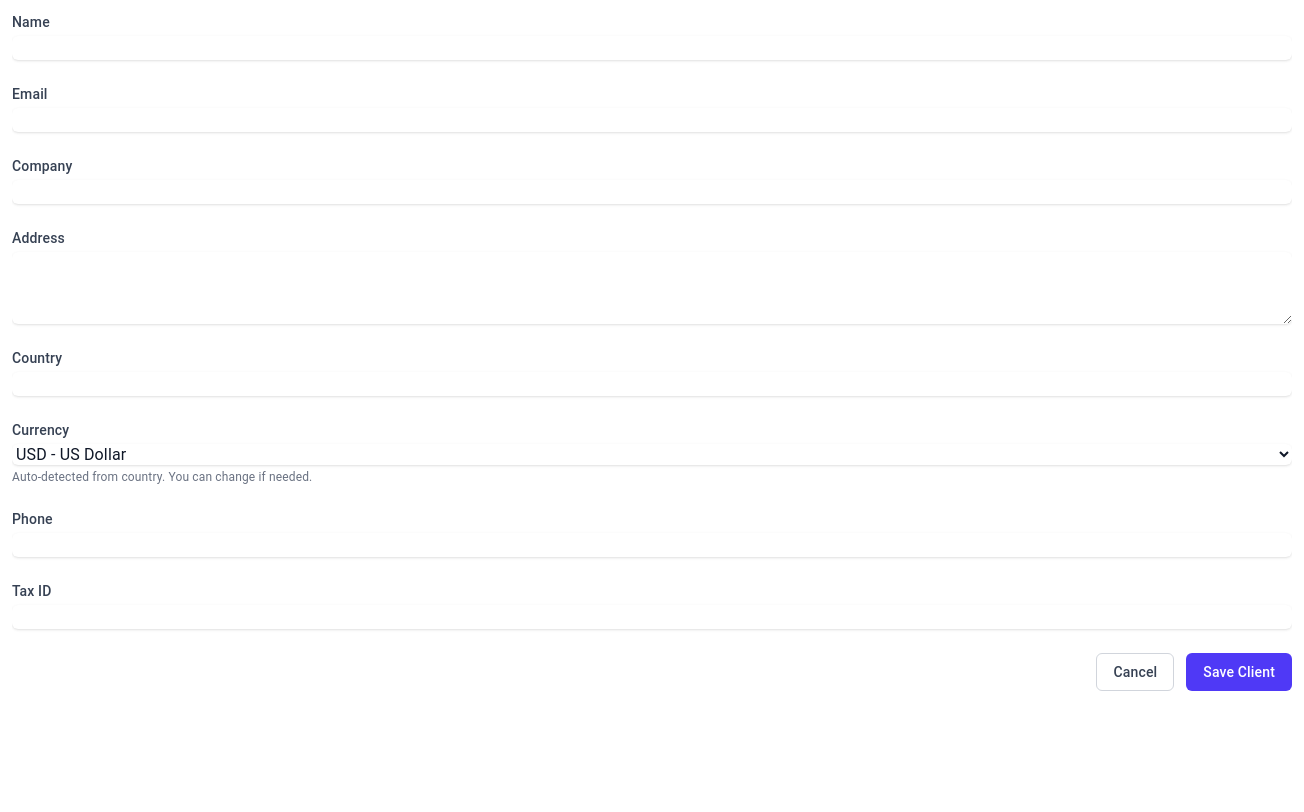
Test: ClientForm › should validate required fields
This screenshot has width=1304, height=812.
# Try to submit empty form
Click the button "Save Client" at (1239, 672), box 1186,653 -> 1292,691
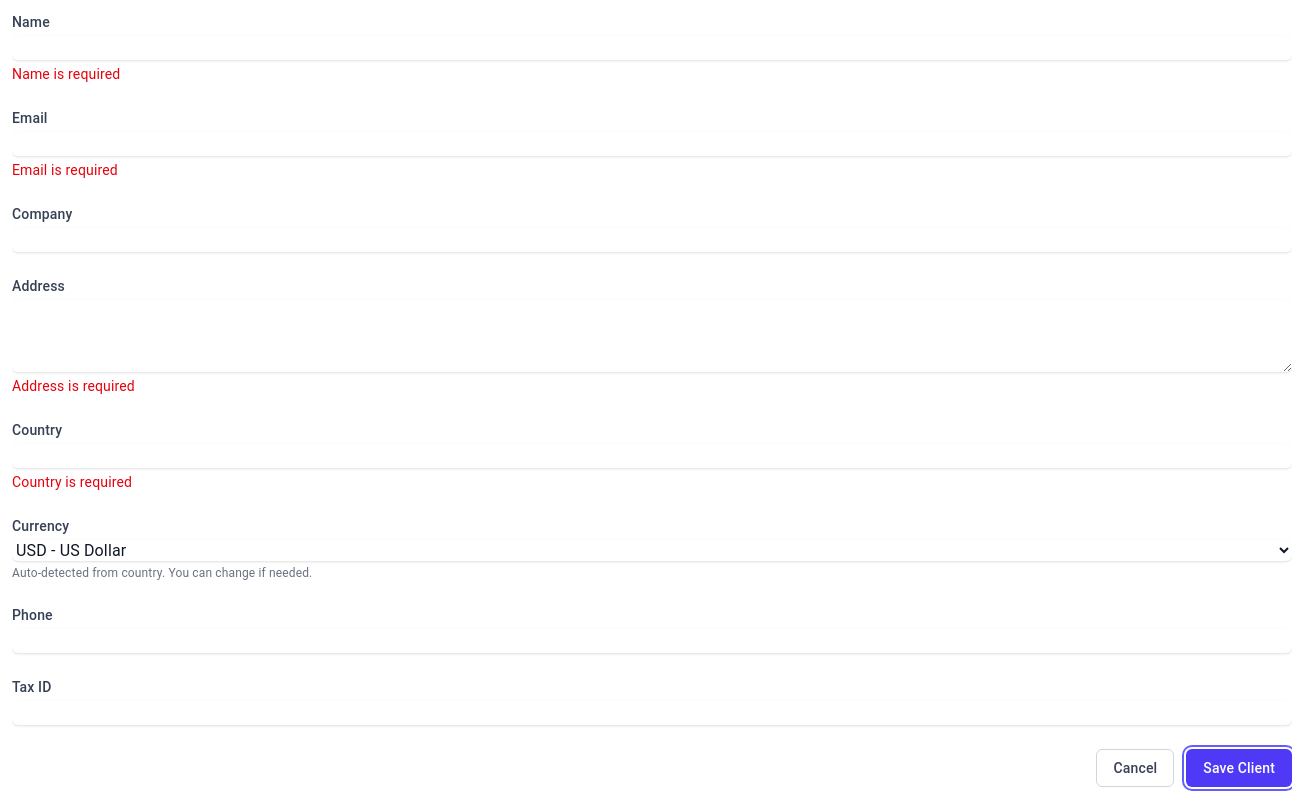
Expected: the text "Name is required" is shown, 12,66 -> 120,82
Expected: the text "Email is required" is shown, 12,162 -> 118,178
Expected: the text "Address is required" is shown, 12,378 -> 135,394
